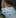with_mask: (2, 2, 16, 18)
